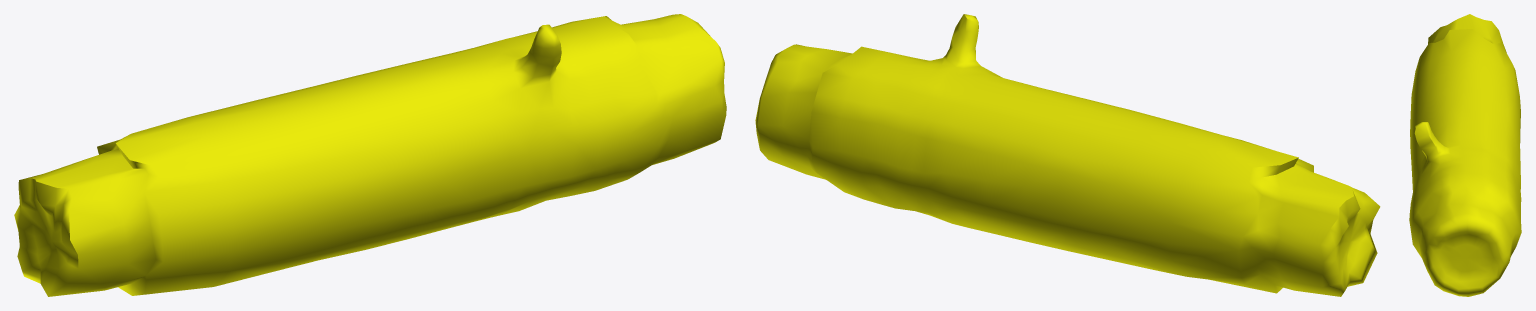
Rendered from LogLow.fbx.
3 renders of one model, left to right at view 1: azimuth 30°, elevation 25°; view 2: azimuth 150°, elevation 25°; view 3: azimuth 270°, elevation 25°, orthographic. The views are drawn at different scales.
Parts seen in each view (by area): view 1: LogLow; view 2: LogLow; view 3: LogLow.
Boxes of the visible parts, x1,y1,x2,y2 form: LogLow: (14, 14, 726, 296); LogLow: (755, 14, 1380, 296); LogLow: (1409, 14, 1521, 296).
Size of the model in its own units: 1.63 by 0.4698 by 0.3673.
